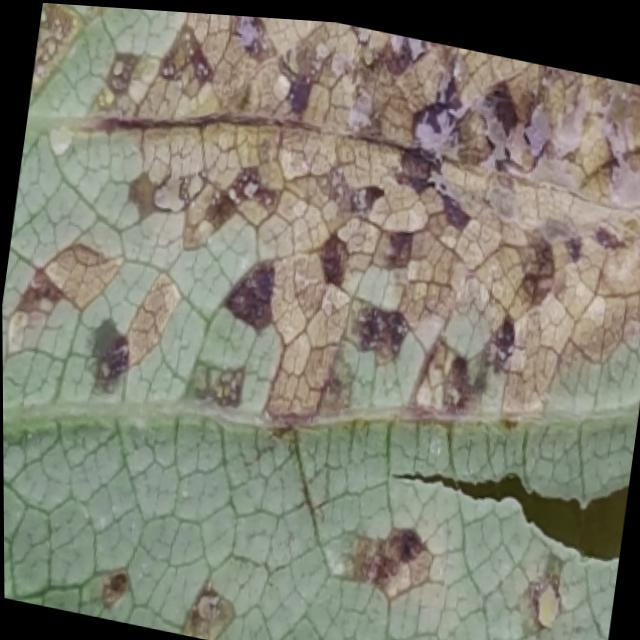Angular Leafspot: (2, 2, 640, 640)
